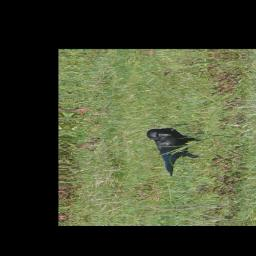Crow: (143, 126, 206, 179)
